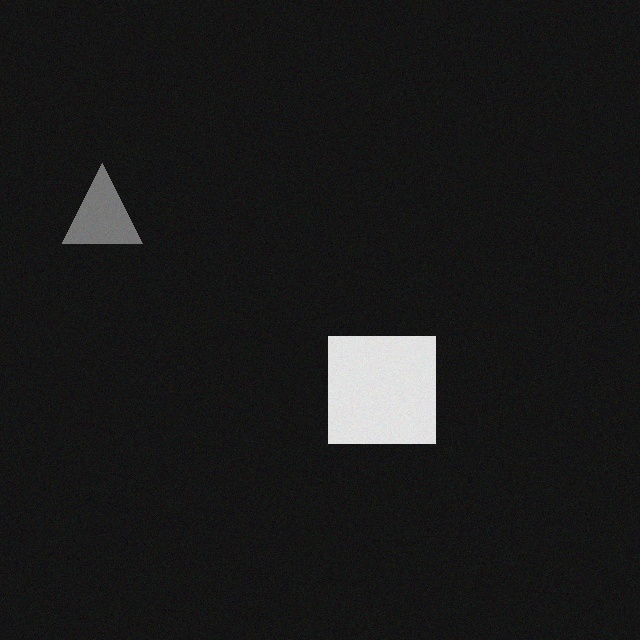square: (319, 332, 426, 439)
triangle: (53, 159, 133, 239)
